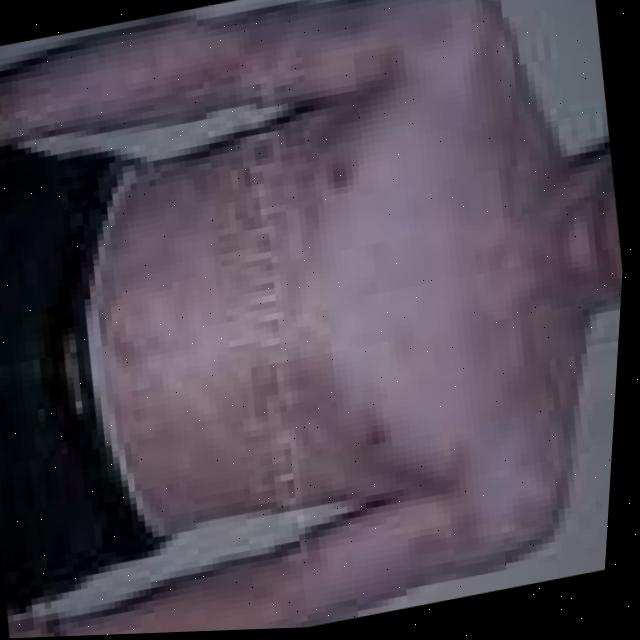Melasma: (115, 146, 354, 353), (135, 339, 368, 524), (201, 18, 298, 87), (0, 66, 38, 178)
